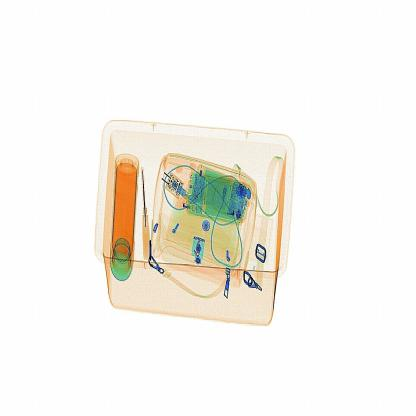wrench: (139, 161, 158, 264)
